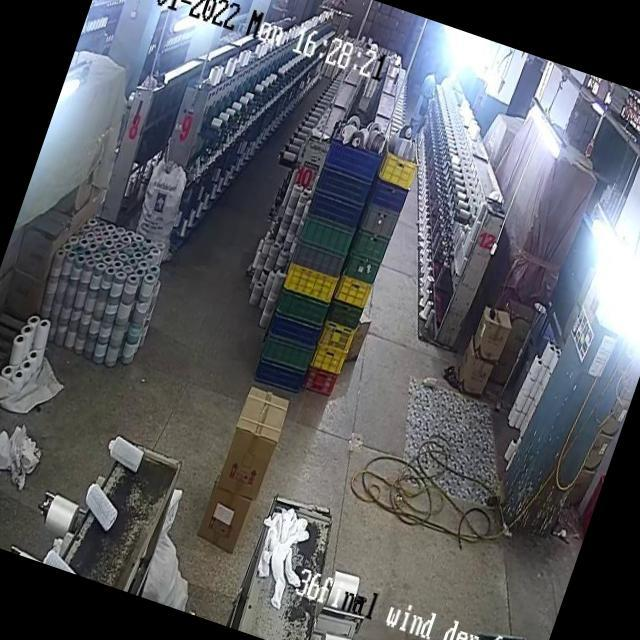person: (404, 69, 444, 131)
